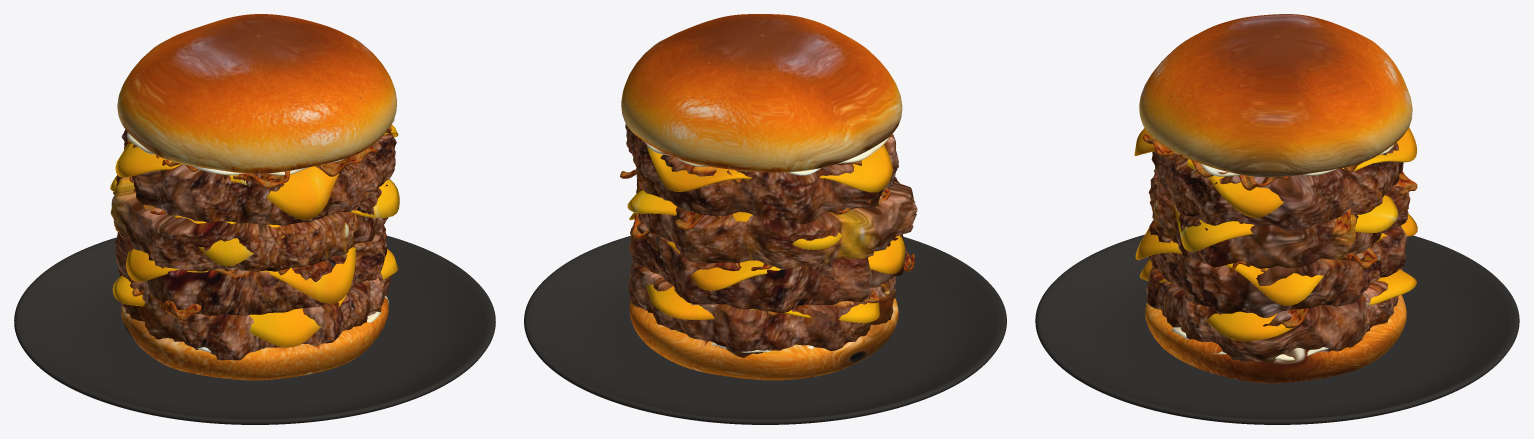
Rendered from hamburguer-4-carnes.glb.
The picture shows the model from 3 angles, left to right: view 1: azimuth 30°, elevation 25°; view 2: azimuth 150°, elevation 25°; view 3: azimuth 270°, elevation 25°; orthographic projection.
Visible parts, largest first — view 1: prato, coroa, carne2, cheddar, carne3, carne1, carne0, base, bacon, creme; view 2: prato, coroa, carne2, carne3, carne1, carne0, cheddar, base, bacon, creme; view 3: prato, coroa, cheddar, carne3, carne1, carne0, carne2, base, bacon, creme.
Boxes of the visible parts, left/top/right/bottom form: prato: left=14, top=235, right=495, bottom=424; coroa: left=117, top=14, right=396, bottom=173; carne2: left=110, top=175, right=388, bottom=271; cheddar: left=110, top=124, right=399, bottom=347; carne3: left=121, top=129, right=396, bottom=225; carne1: left=115, top=225, right=386, bottom=315; carne0: left=119, top=272, right=391, bottom=360; base: left=121, top=295, right=388, bottom=380; bacon: left=127, top=125, right=391, bottom=320; creme: left=126, top=118, right=394, bottom=352; prato: left=524, top=236, right=1006, bottom=424; coroa: left=621, top=14, right=902, bottom=172; carne2: left=636, top=175, right=917, bottom=269; carne3: left=625, top=124, right=898, bottom=223; carne1: left=629, top=222, right=907, bottom=312; carne0: left=628, top=263, right=895, bottom=357; cheddar: left=627, top=144, right=904, bottom=322; base: left=629, top=297, right=898, bottom=380; bacon: left=620, top=135, right=914, bottom=316; creme: left=644, top=137, right=888, bottom=352; prato: left=1035, top=234, right=1519, bottom=424; coroa: left=1139, top=14, right=1412, bottom=177; cheddar: left=1134, top=127, right=1417, bottom=341; carne3: left=1151, top=142, right=1403, bottom=230; carne1: left=1148, top=220, right=1406, bottom=317; carne0: left=1145, top=267, right=1402, bottom=363; carne2: left=1148, top=169, right=1410, bottom=268; base: left=1145, top=295, right=1406, bottom=383; bacon: left=1142, top=134, right=1417, bottom=328; creme: left=1172, top=144, right=1393, bottom=360.
Bounding box in the file's own units: 0.2182 × 0.1566 × 0.2182.
10 materials, 9 textured.
